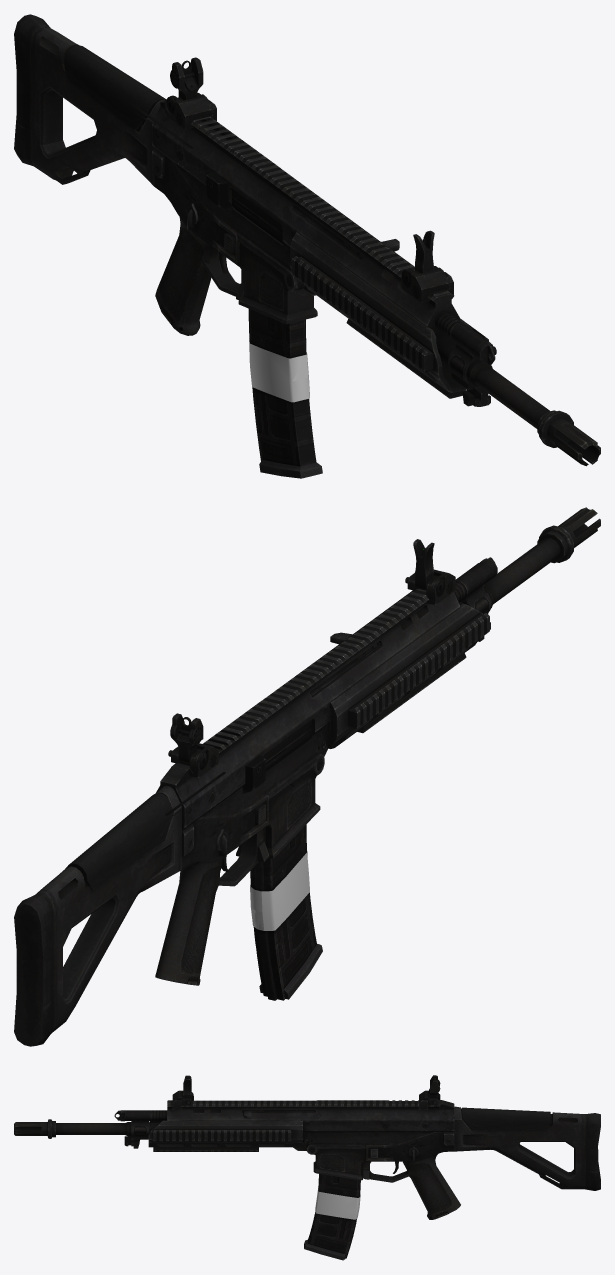
The model's file is ACWR.FBX.
3 renders of one model, top to bottom at view 1: azimuth 30°, elevation 25°; view 2: azimuth 150°, elevation 25°; view 3: azimuth 270°, elevation 25°, orthographic. The views are drawn at different scales.
Visible parts, largest first — view 1: Mesh_0004, MAG, Mesh_0007; view 2: Mesh_0004, MAG, Mesh_0007; view 3: Mesh_0004, MAG, Mesh_0007.
Boxes of the visible parts, x1,y1,x2,y2 form: Mesh_0004: (14,14,600,466); MAG: (248,309,322,478); Mesh_0007: (164,57,453,302); Mesh_0004: (14,507,600,1046); MAG: (250,824,322,1000); Mesh_0007: (168,539,455,778); Mesh_0004: (14,1100,600,1219); MAG: (304,1174,360,1260); Mesh_0007: (172,1075,440,1109).
Size of the model in its own units: 6.07 by 30.51 by 90.09.
